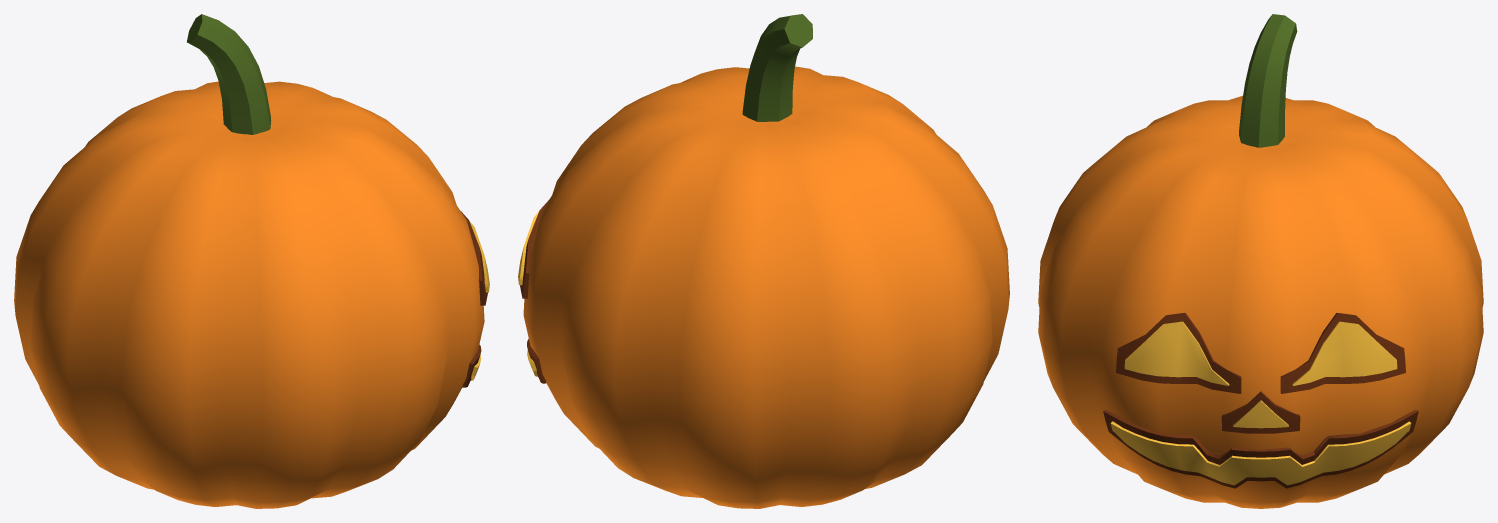
Rendered from acc_pumpkin.glb.
3 renders of one model, left to right at view 1: azimuth 30°, elevation 25°; view 2: azimuth 150°, elevation 25°; view 3: azimuth 270°, elevation 25°, orthographic. The views are drawn at different scales.
Visible parts, largest first — view 1: Pumpkin; view 2: Pumpkin; view 3: Pumpkin.
Part boxes in pixels (x1,y1,x2,y2): Pumpkin: [14, 14, 489, 508]; Pumpkin: [518, 14, 1009, 508]; Pumpkin: [1038, 14, 1483, 508].
Bounding box in the file's own units: 0.6252 × 0.6332 × 0.6045.
